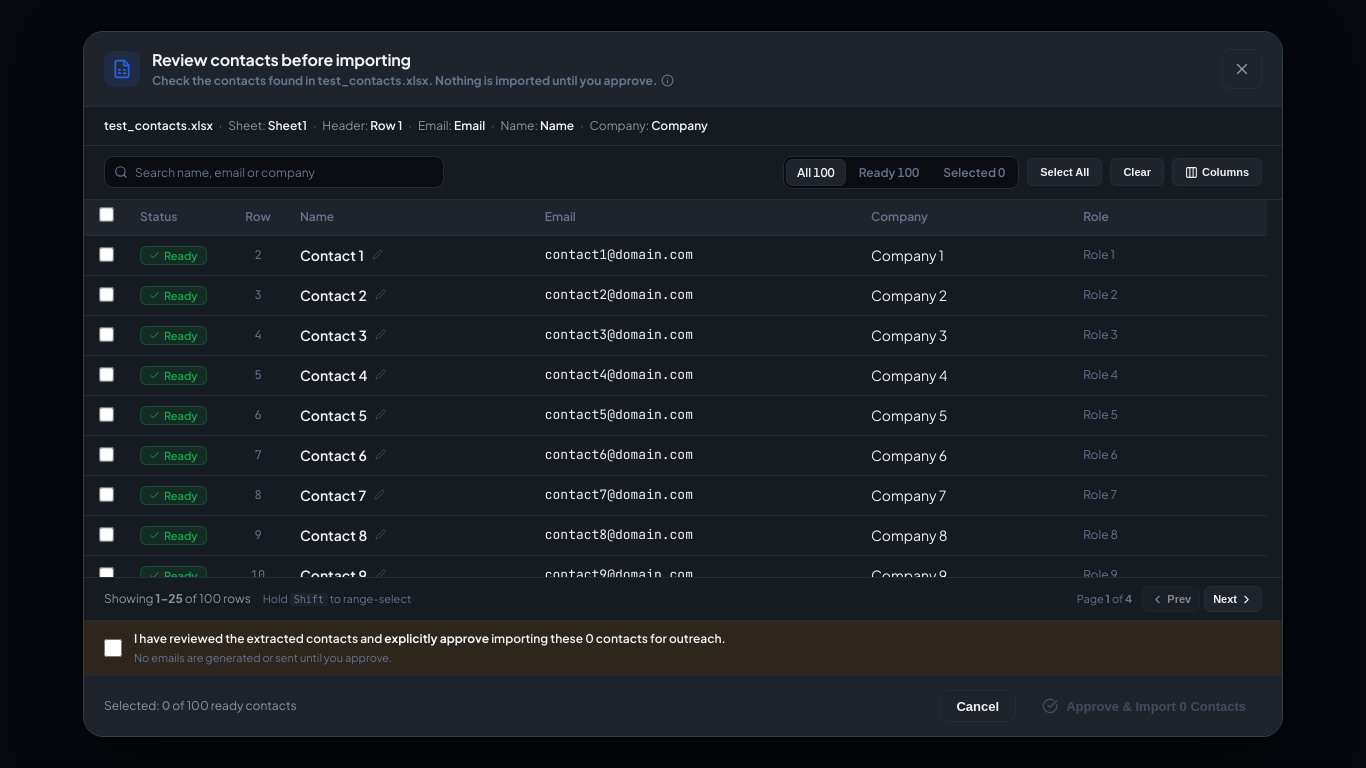
Scenario: RecipientModal Empirical Pagination & Selection Stress Suite › clamps page back to 1 upon rapid search filtering from page 3
The image size is (1366, 768).
// Advance to Page 3
Click the button with aria-label "Next Page" at (1233, 599), box top-left (1204, 586), bottom-right (1262, 612)
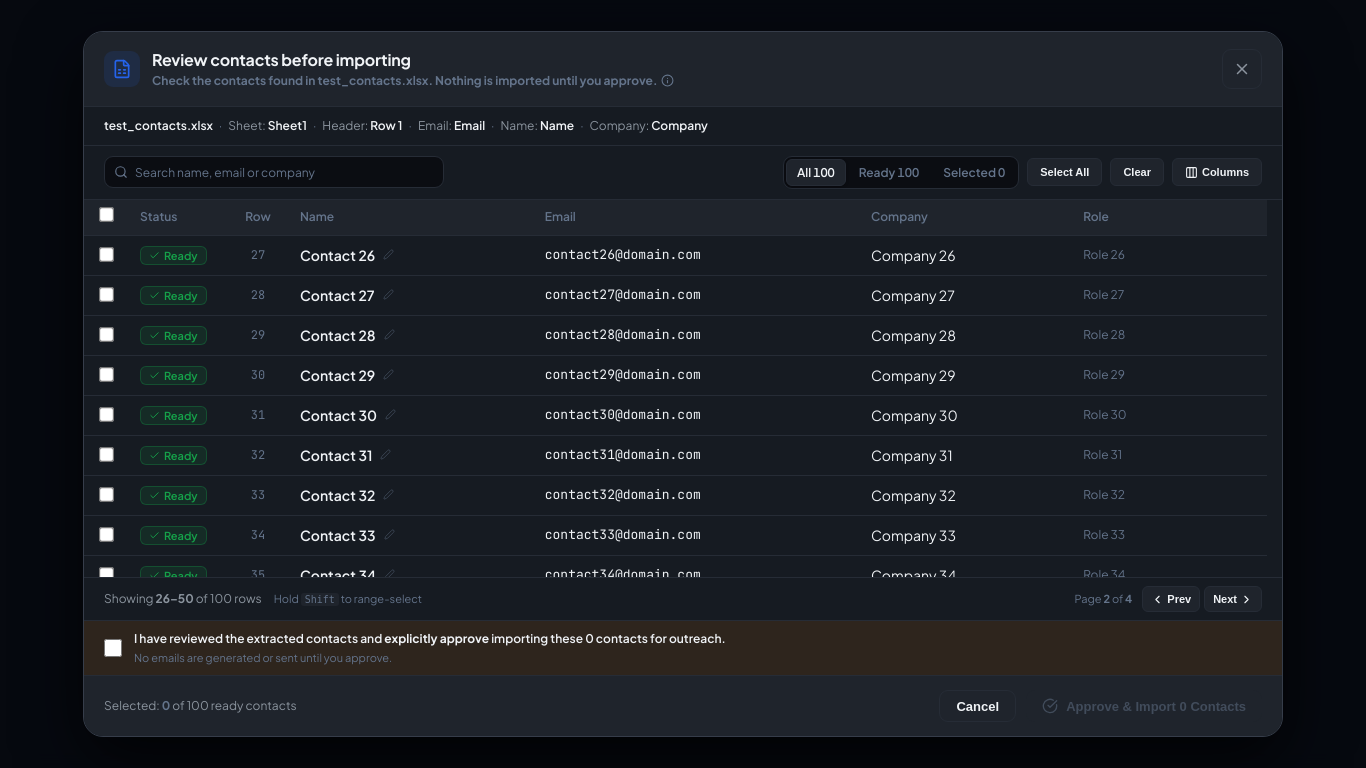
Click the button with aria-label "Next Page" at (1233, 599), box top-left (1204, 586), bottom-right (1262, 612)
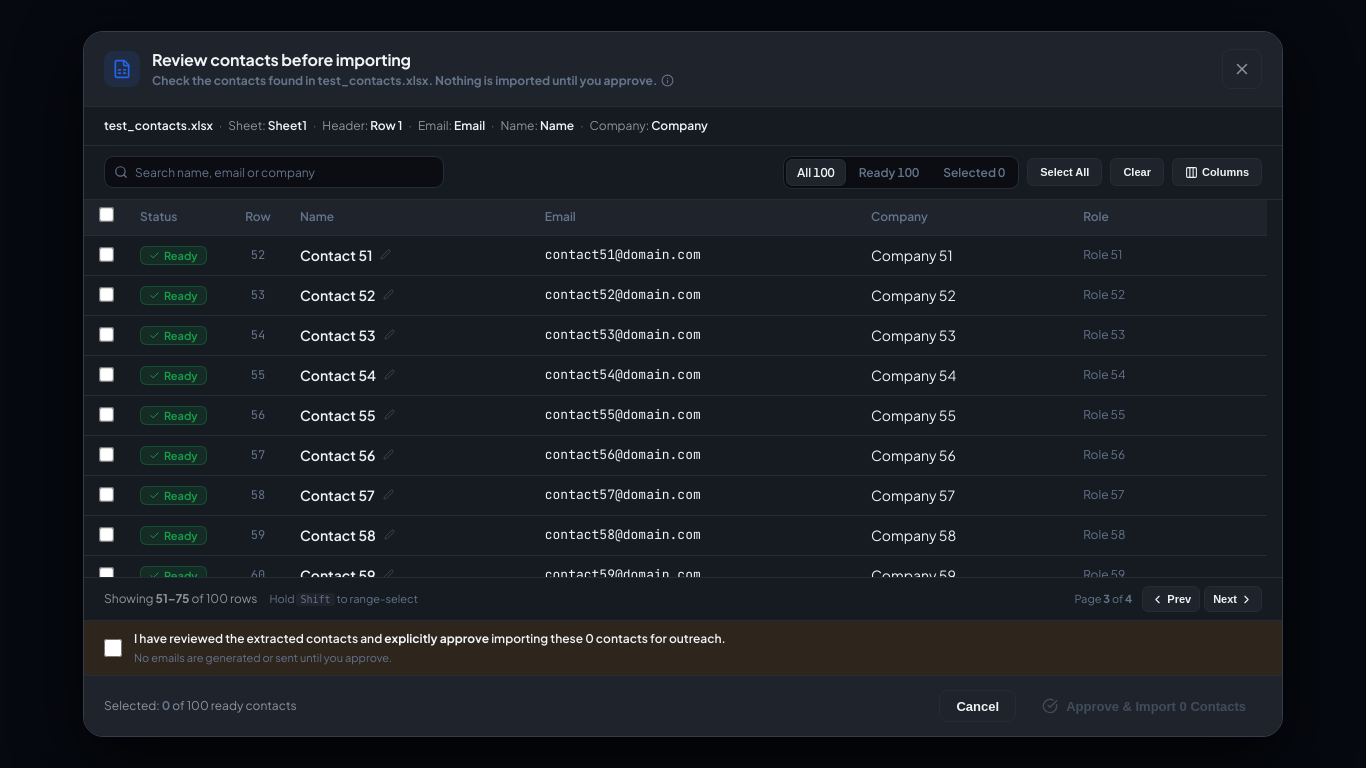
Expected: the text "51–75" is shown, top-left (156, 591), bottom-right (189, 606)
// Filter down to rows matching "contact9" (matches contact9, contact90..99)
Type "contact9" into the field named "Search contacts" at (274, 172), box top-left (104, 156), bottom-right (444, 188)
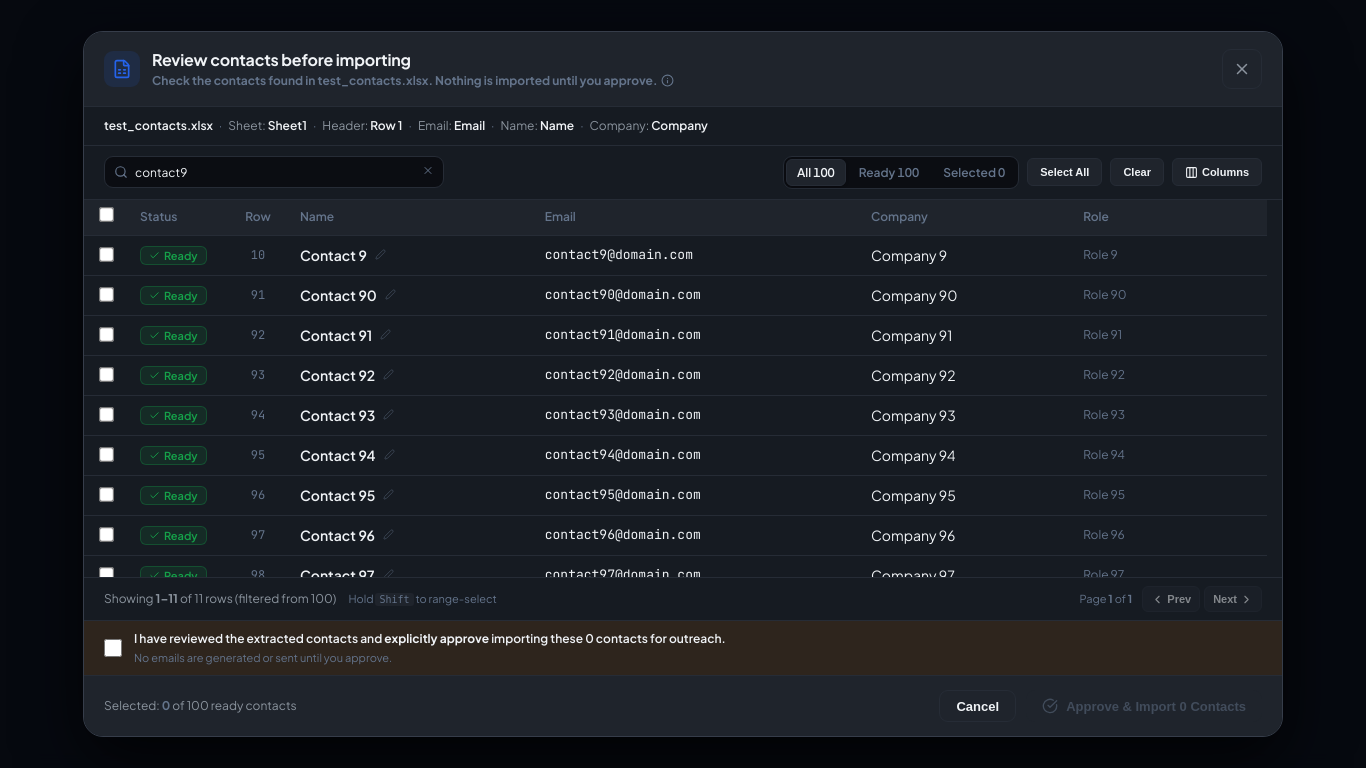
Expected: the text "1–11" is shown, top-left (156, 591), bottom-right (178, 606)
// Rapid search to 0 matches
Replace the text in the field named "Search contacts" with "nonexistent-query-xyz" at (274, 172), box top-left (104, 156), bottom-right (444, 188)
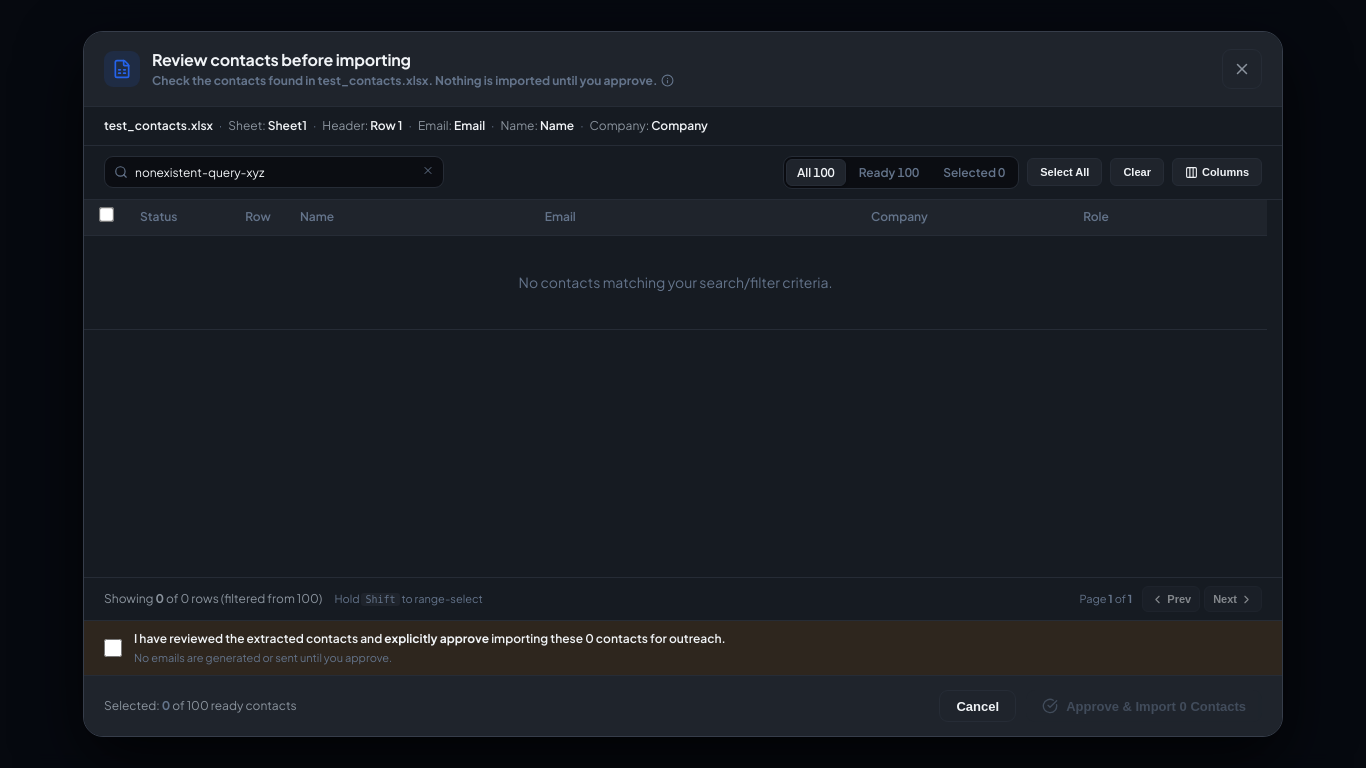
Expected: the text "No contacts matching your search/filter criteria." is shown, top-left (84, 236), bottom-right (1267, 330)
// Clear search
Clear the field named "Search contacts" at (274, 172), box top-left (104, 156), bottom-right (444, 188)
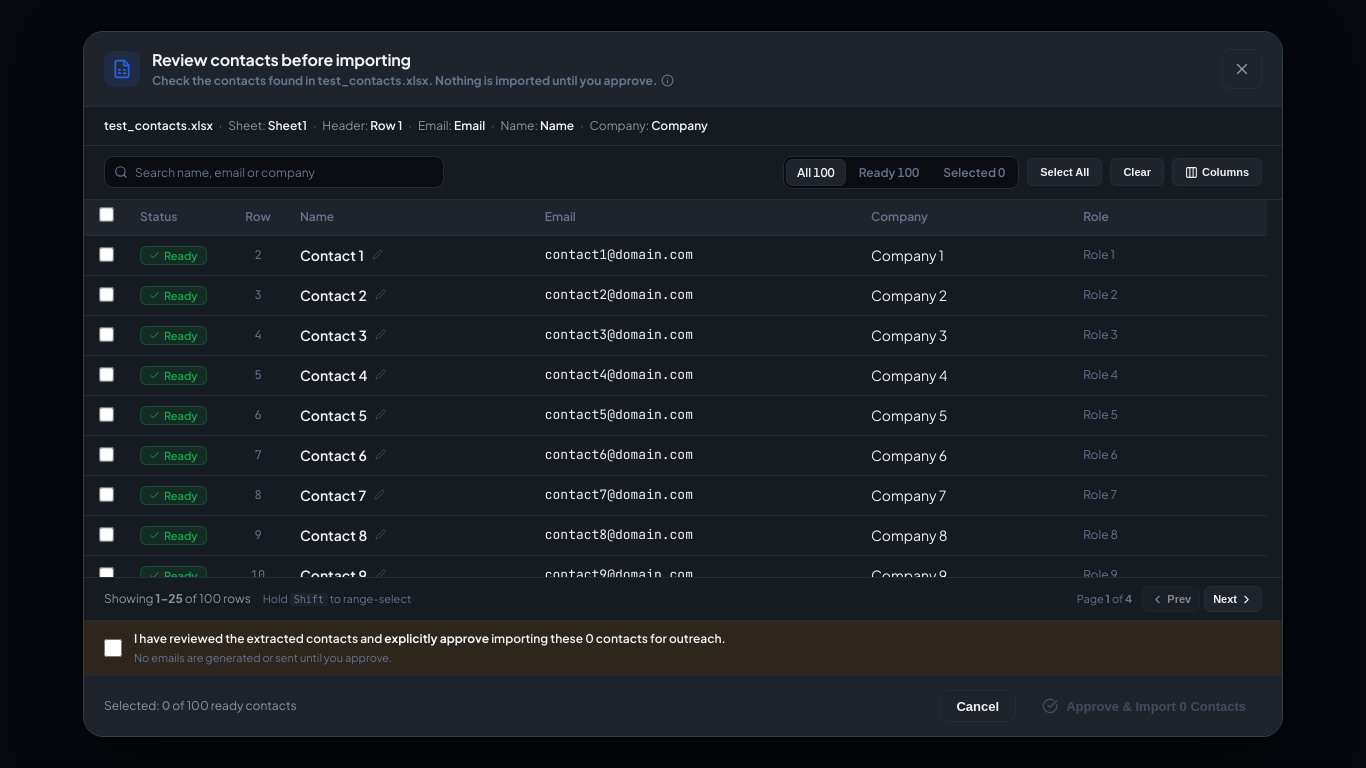
Expected: the text "1–25" is shown, top-left (156, 591), bottom-right (183, 606)
